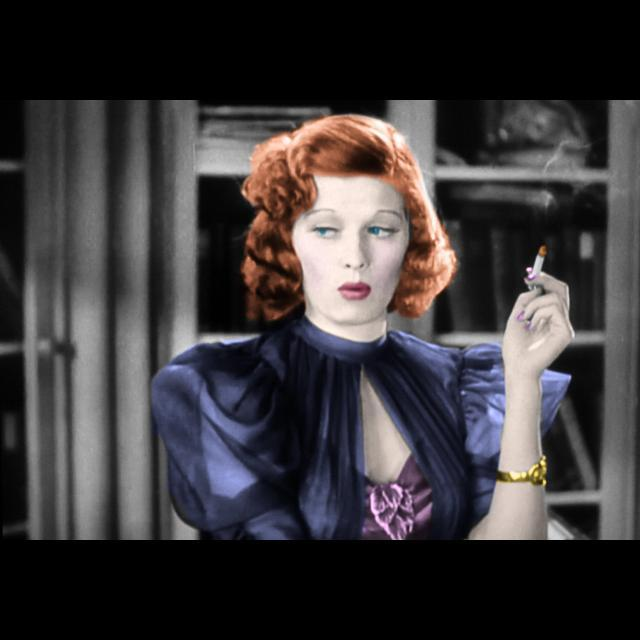rokok: (533, 244, 545, 274)
